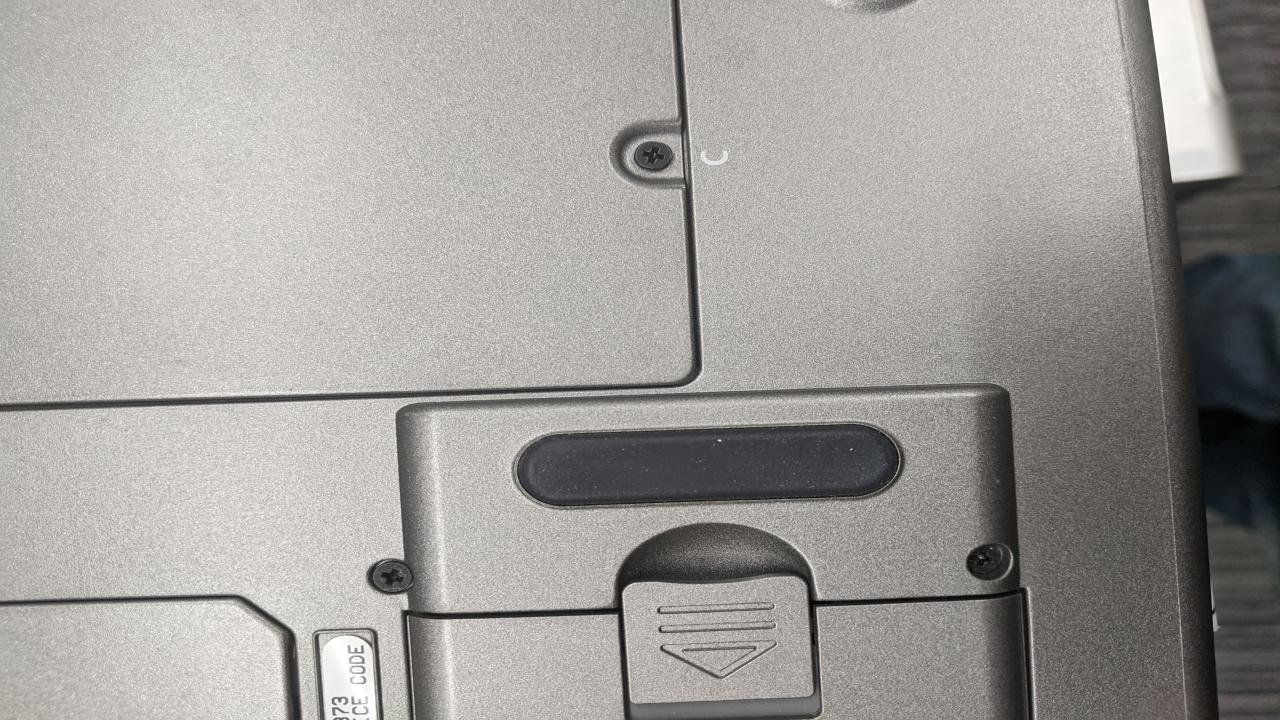CRS: (369, 552, 419, 596), (630, 138, 680, 176), (963, 541, 1006, 574)
